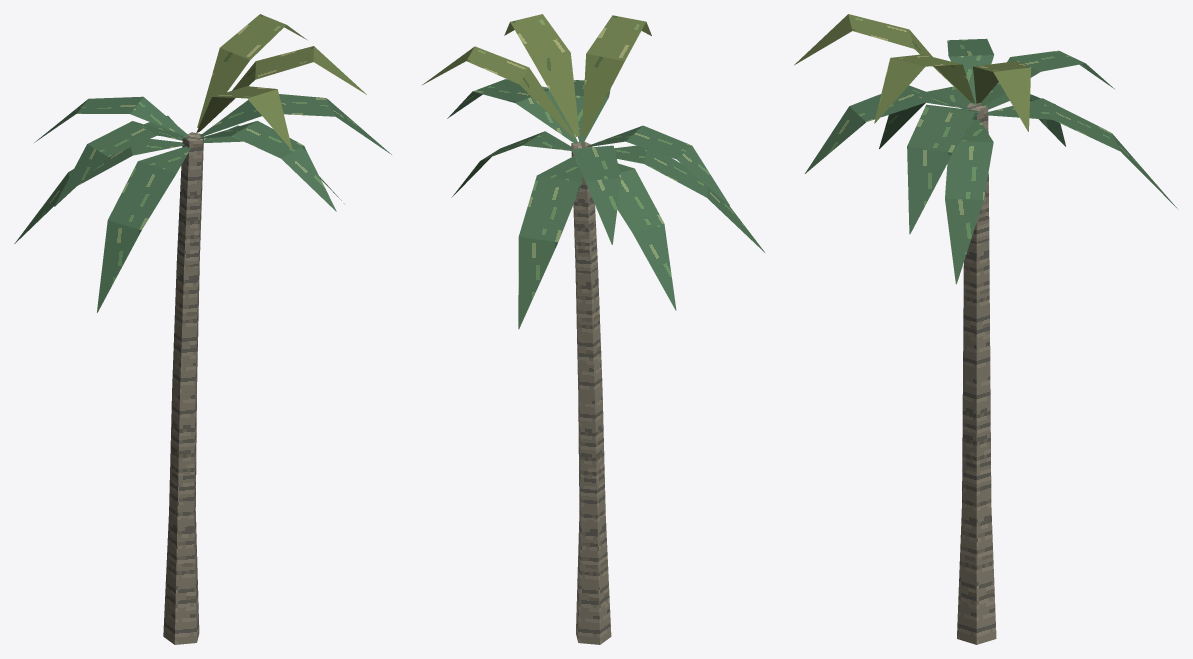
Rendered from queen-mid.glb.
3 views of the same model, side by side, from view 1: azimuth 30°, elevation 25°; view 2: azimuth 150°, elevation 25°; view 3: azimuth 270°, elevation 25° (orthographic). The views are drawn at different scales.
Visible parts, largest first — view 1: crown_queen-mid, trunk_queen-mid; view 2: crown_queen-mid, trunk_queen-mid; view 3: crown_queen-mid, trunk_queen-mid.
Part boxes in pixels (box(x1,y1,x2,y2)): crown_queen-mid: box(14, 14, 391, 312); trunk_queen-mid: box(163, 132, 203, 644); crown_queen-mid: box(422, 14, 764, 329); trunk_queen-mid: box(571, 141, 611, 644); crown_queen-mid: box(794, 14, 1178, 284); trunk_queen-mid: box(957, 103, 996, 644).
Bounding box in the file's own units: 7.04 × 12.53 × 6.98.
Materials: 2 (2 with a texture image).
